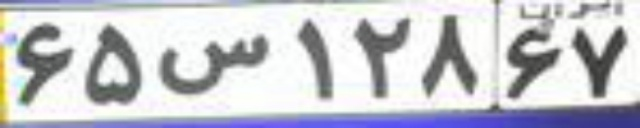1: (294, 20, 335, 99)
2: (354, 14, 410, 98)
5: (83, 23, 148, 105)
6: (9, 25, 76, 104), (500, 25, 562, 99)
7: (568, 22, 629, 98)
8: (419, 13, 480, 96)
sin: (158, 33, 274, 97)
